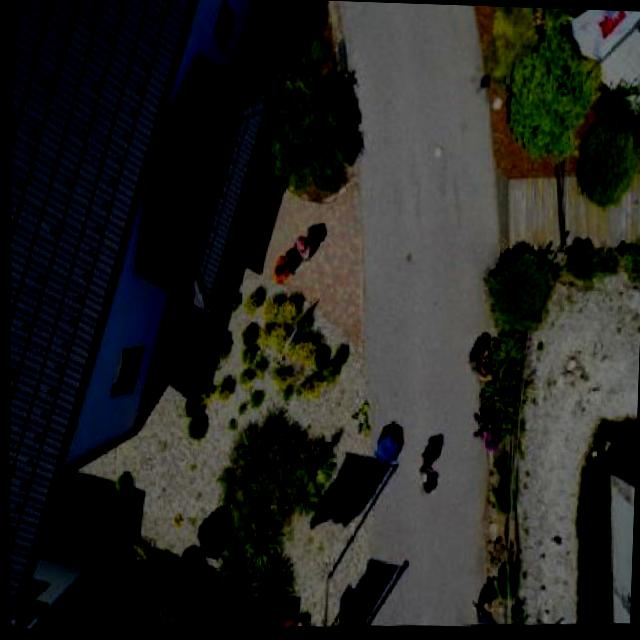Person: (406, 458, 443, 506), (281, 230, 322, 267), (260, 250, 294, 288)
